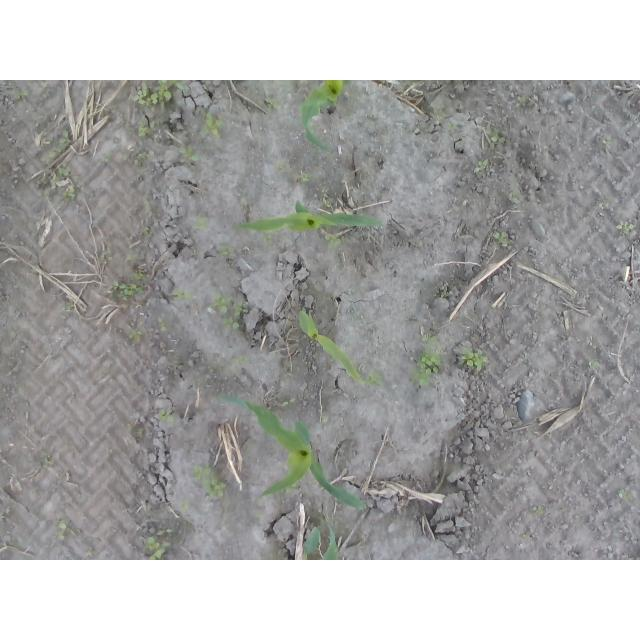Maize: (218, 395, 370, 514), (299, 311, 370, 389), (234, 200, 384, 236), (298, 80, 351, 153), (302, 524, 339, 561)
Weeds: (40, 130, 77, 202), (133, 81, 188, 112), (211, 292, 249, 330), (415, 336, 441, 388), (191, 463, 225, 502), (147, 529, 173, 560), (106, 280, 144, 299), (202, 110, 222, 138), (462, 350, 488, 370), (125, 256, 147, 279), (180, 145, 200, 161), (486, 128, 502, 145), (156, 410, 176, 423), (173, 287, 191, 301), (618, 220, 635, 234), (138, 123, 155, 137), (194, 217, 210, 231), (265, 98, 283, 110), (136, 152, 149, 168), (476, 159, 489, 173), (368, 373, 381, 387), (325, 233, 339, 246), (60, 522, 69, 542), (129, 329, 143, 341), (496, 232, 509, 244), (181, 500, 192, 513), (15, 89, 28, 99), (220, 244, 235, 252), (264, 233, 274, 244), (606, 136, 615, 148), (158, 319, 167, 330), (301, 172, 311, 181), (278, 161, 287, 168), (440, 291, 452, 296), (101, 156, 110, 161)
